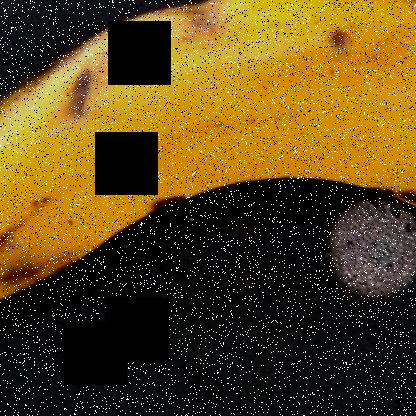overripe: (1, 0, 415, 360)
